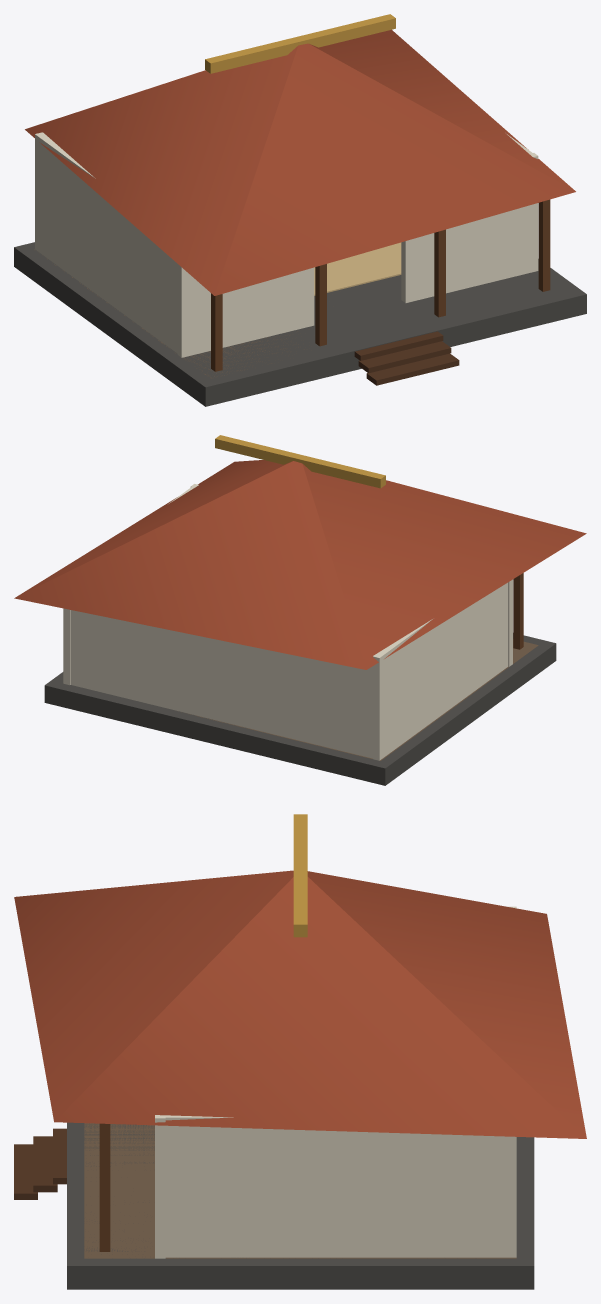
File: kebaya-betawi.glb
The picture shows the model from 3 angles, top to bottom: view 1: azimuth 30°, elevation 25°; view 2: azimuth 150°, elevation 25°; view 3: azimuth 270°, elevation 25°; orthographic projection. The views are drawn at different scales.
Visible parts, largest first — view 1: ROOF_SYSTEM, WALL_SYSTEM, FOUNDATION_SYSTEM, STRUCTURAL_COLUMNS, ENTRANCE_STAIRS, INTERIOR_MAT; view 2: ROOF_SYSTEM, WALL_SYSTEM, FOUNDATION_SYSTEM, STRUCTURAL_COLUMNS, FLOOR_SYSTEM; view 3: ROOF_SYSTEM, WALL_SYSTEM, FOUNDATION_SYSTEM, FLOOR_SYSTEM, ENTRANCE_STAIRS, STRUCTURAL_COLUMNS.
Boxes of the visible parts, <box> form: ROOF_SYSTEM: <box>25,14,575,295</box>; WALL_SYSTEM: <box>35,132,538,357</box>; FOUNDATION_SYSTEM: <box>14,242,586,406</box>; STRUCTURAL_COLUMNS: <box>211,199,550,371</box>; ENTRANCE_STAIRS: <box>354,331,459,385</box>; INTERIOR_MAT: <box>314,242,401,295</box>; ROOF_SYSTEM: <box>14,435,586,669</box>; WALL_SYSTEM: <box>63,484,512,760</box>; FOUNDATION_SYSTEM: <box>44,633,556,785</box>; STRUCTURAL_COLUMNS: <box>513,573,523,649</box>; FLOOR_SYSTEM: <box>181,639,538,760</box>; ROOF_SYSTEM: <box>14,814,586,1138</box>; WALL_SYSTEM: <box>155,906,516,1258</box>; FOUNDATION_SYSTEM: <box>67,1122,534,1289</box>; FLOOR_SYSTEM: <box>84,1123,516,1258</box>; ENTRANCE_STAIRS: <box>14,1128,66,1199</box>; STRUCTURAL_COLUMNS: <box>99,1123,110,1251</box>.
Size of what is drawn, in the model's own units: 9.81 by 5.8 by 9.81.
